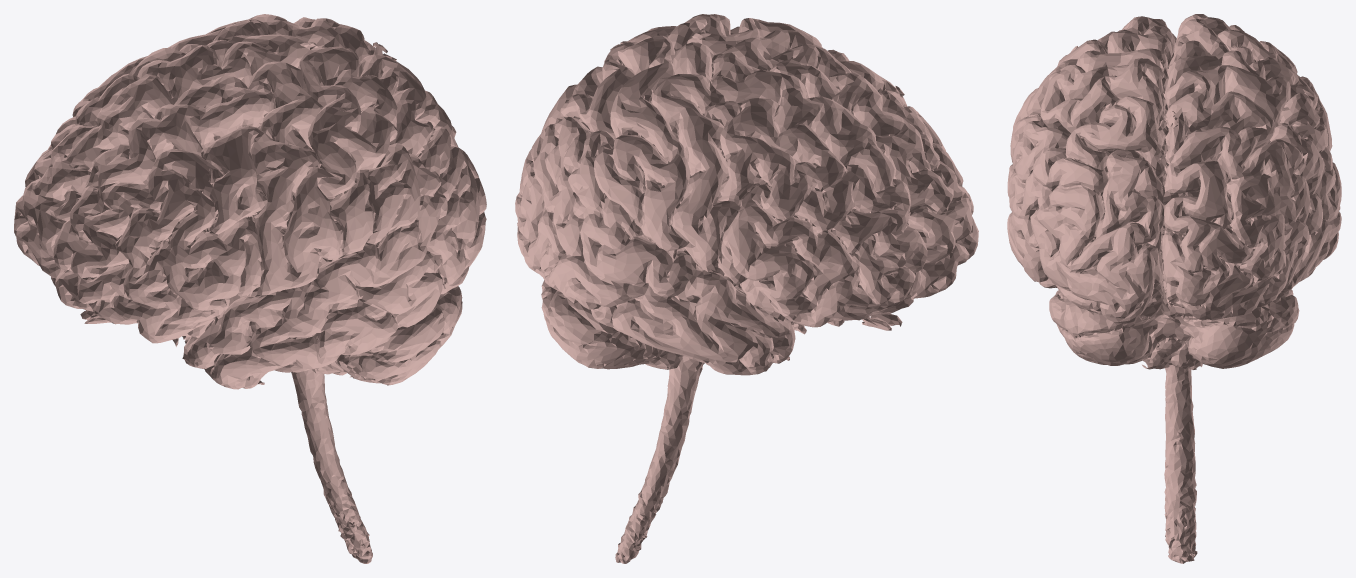
File: human-brain.glb
3 renders of one model, left to right at view 1: azimuth 30°, elevation 25°; view 2: azimuth 150°, elevation 25°; view 3: azimuth 270°, elevation 25°, orthographic. The views are drawn at different scales.
Parts seen in each view (by area): view 1: MRI-derived human brain; view 2: MRI-derived human brain; view 3: MRI-derived human brain.
Part boxes in pixels (<box>): MRI-derived human brain: <box>14,14,486,563</box>; MRI-derived human brain: <box>515,14,978,563</box>; MRI-derived human brain: <box>1007,14,1341,563</box>.
Bounding box in the file's own units: 1.93 × 2.4 × 1.53.
